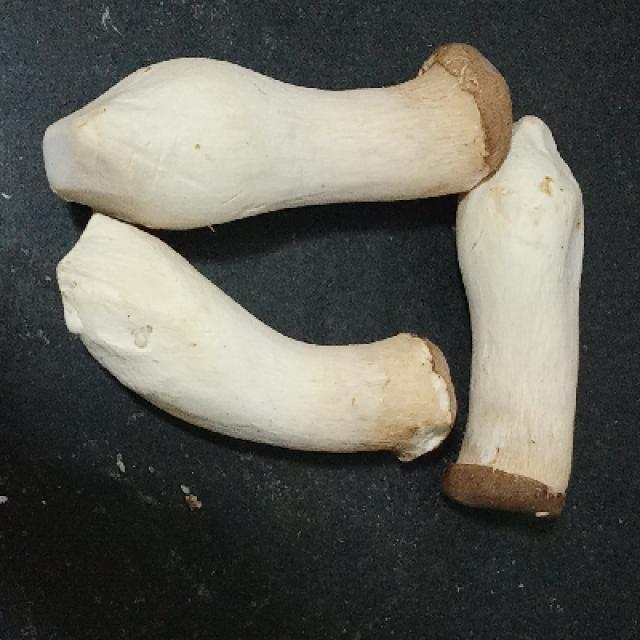Pleurotus eryngii: (44, 46, 587, 513)
